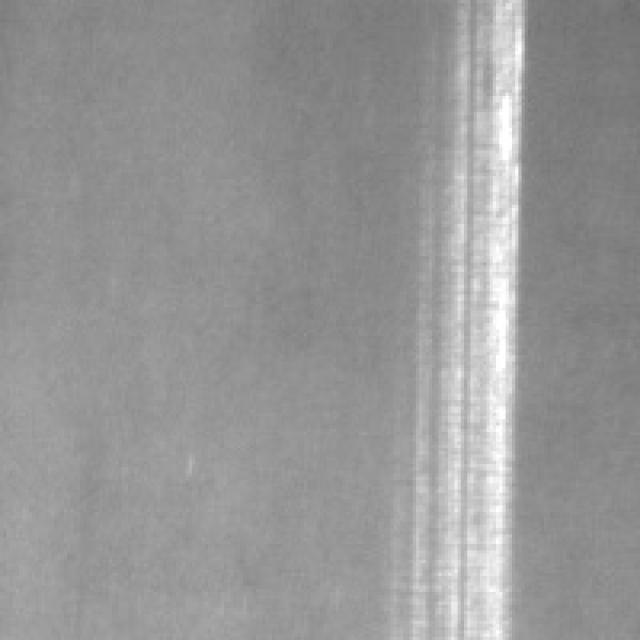scratches: (425, 0, 518, 630)
